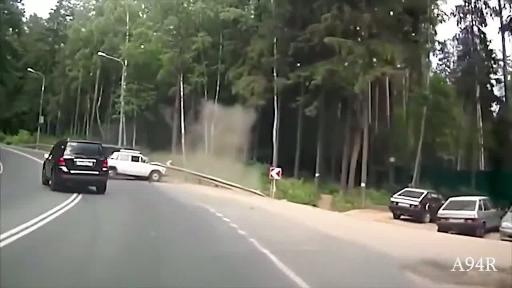Accident: (105, 108, 237, 211)
CAR: (426, 148, 512, 248), (39, 134, 108, 198), (374, 173, 422, 224)
